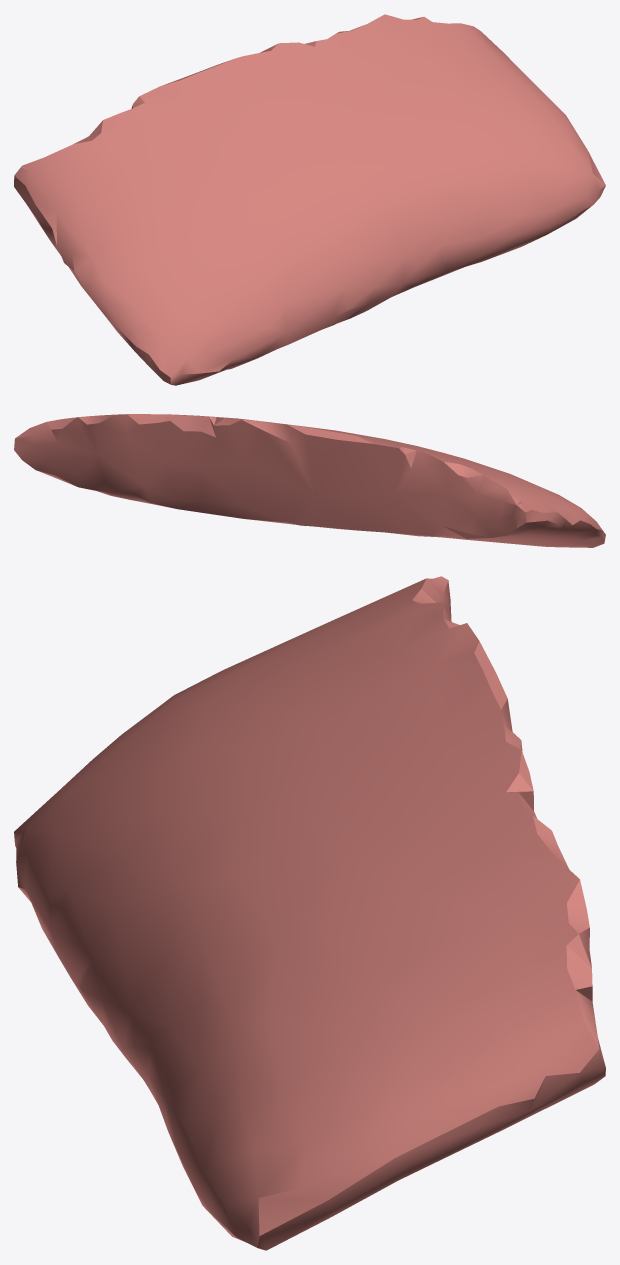
The model's file is fma54100-f_mm2239.glb.
3 renders of one model, top to bottom at view 1: azimuth 30°, elevation 25°; view 2: azimuth 150°, elevation 25°; view 3: azimuth 270°, elevation 25°, orthographic. The views are drawn at different scales.
Visible parts, largest first — view 1: FMA54100-F_MM2239; view 2: FMA54100-F_MM2239; view 3: FMA54100-F_MM2239.
Boxes of the visible parts, <box> form: FMA54100-F_MM2239: <box>14,14,605,385</box>; FMA54100-F_MM2239: <box>14,414,605,547</box>; FMA54100-F_MM2239: <box>14,576,605,1250</box>.
Bounding box in the file's own units: 0.00827 × 0.00273 × 0.00441.
